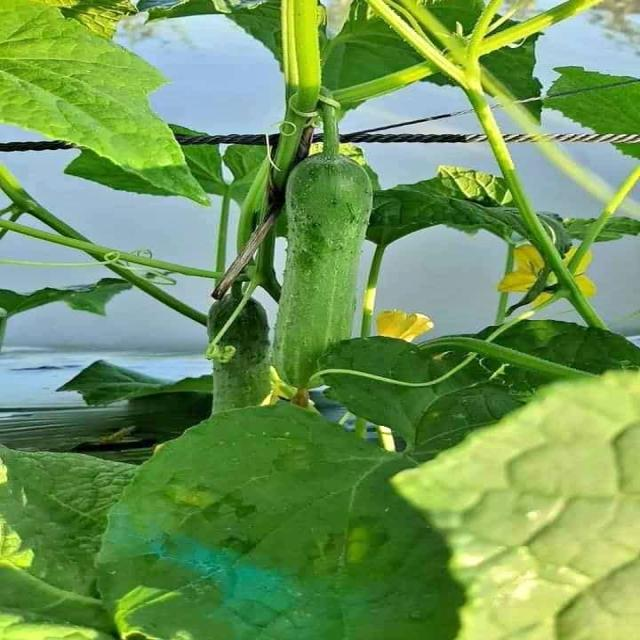cucumber: (276, 152, 372, 395)
